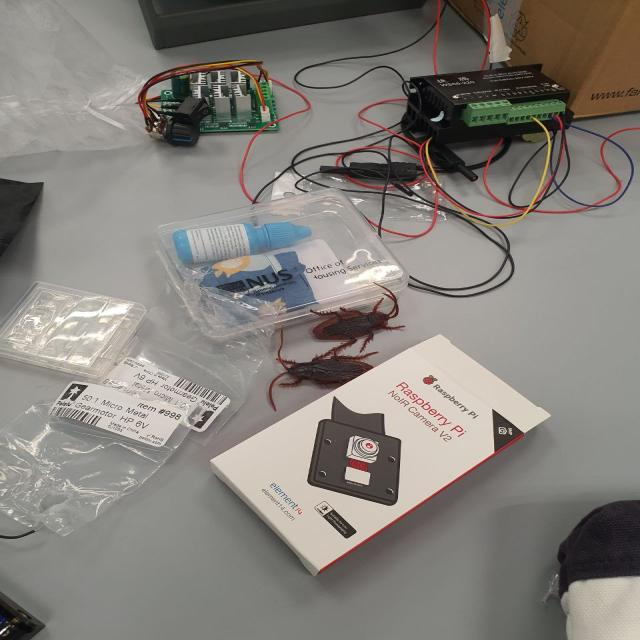Cockroach: (266, 327, 372, 405), (312, 279, 406, 345)
